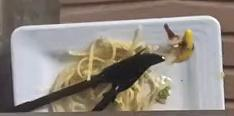pasta: (50, 29, 146, 92), (115, 72, 171, 111), (51, 83, 112, 112)
